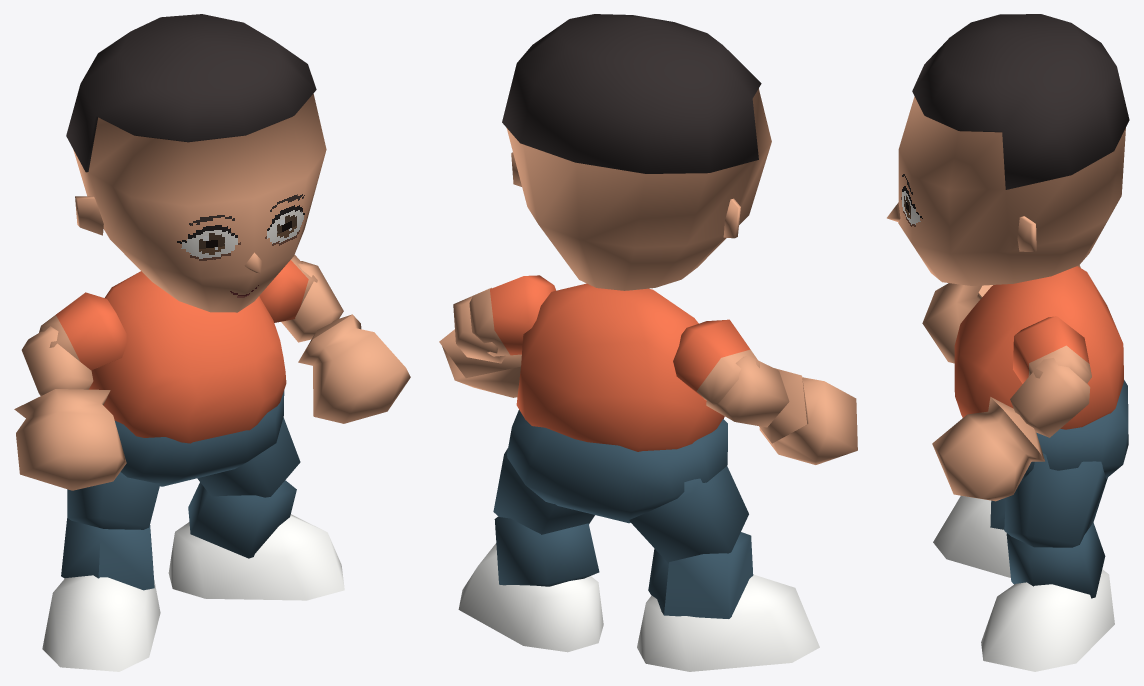
3 views of the same model, side by side, from view 1: azimuth 30°, elevation 25°; view 2: azimuth 150°, elevation 25°; view 3: azimuth 270°, elevation 25° (orthographic). The views are drawn at different scales.
Visible parts, largest first — view 1: Character; view 2: Character; view 3: Character.
Boxes of the visible parts, bbox=[...] form: Character: bbox=[14, 14, 410, 671]; Character: bbox=[439, 14, 857, 671]; Character: bbox=[887, 14, 1129, 671].
Size of the model in its own units: 1.98 by 2.78 by 1.08.
9 materials, 2 textured.
